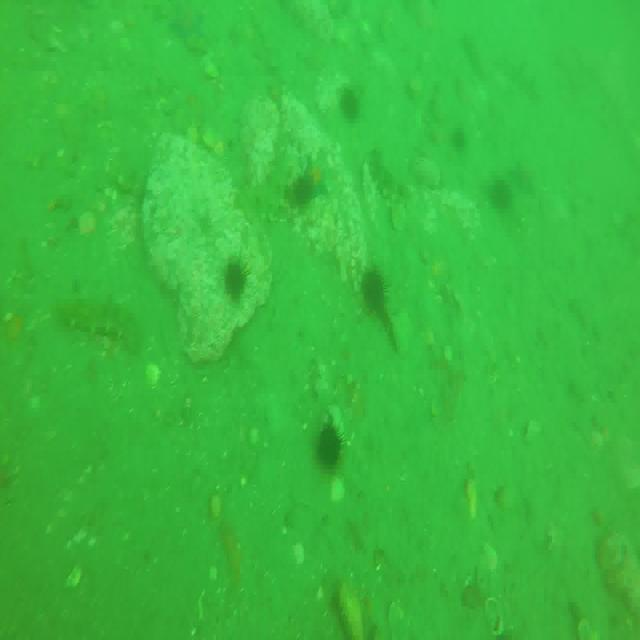echinus: (318, 421, 342, 471), (363, 268, 388, 310), (226, 261, 250, 300), (339, 86, 362, 124), (492, 177, 512, 212)
holothurian: (57, 294, 137, 348), (238, 149, 290, 225), (368, 142, 410, 205)
starfish: (170, 1, 204, 39), (305, 158, 329, 200), (514, 159, 536, 197)
